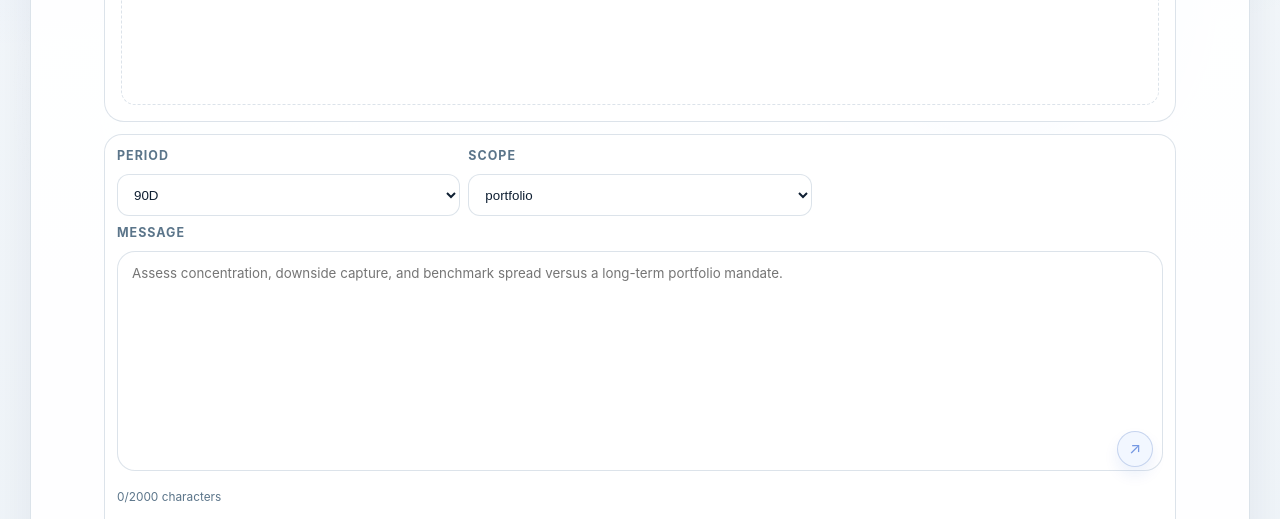
Test: PortfolioCopilotPage › renders markdown table structure in ready response text
(page scrolled)
In the text box named "Copilot user message": (640, 361) [117, 251, 1163, 471], type "Render markdown table please."
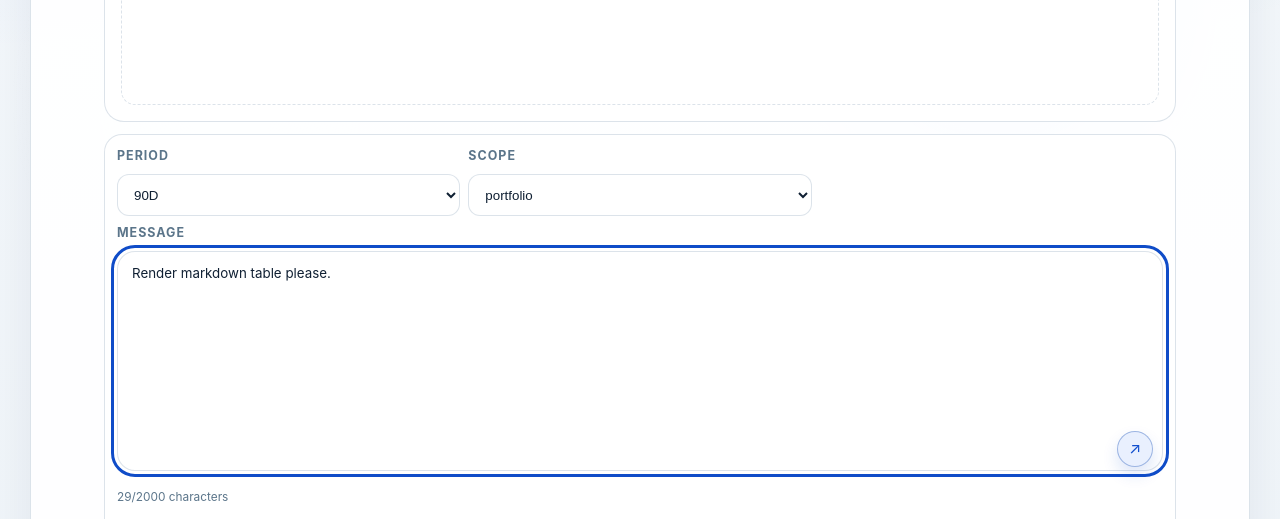
Click the button named "Submit request": click(1135, 449) [1117, 431, 1153, 467]
(page scrolled)
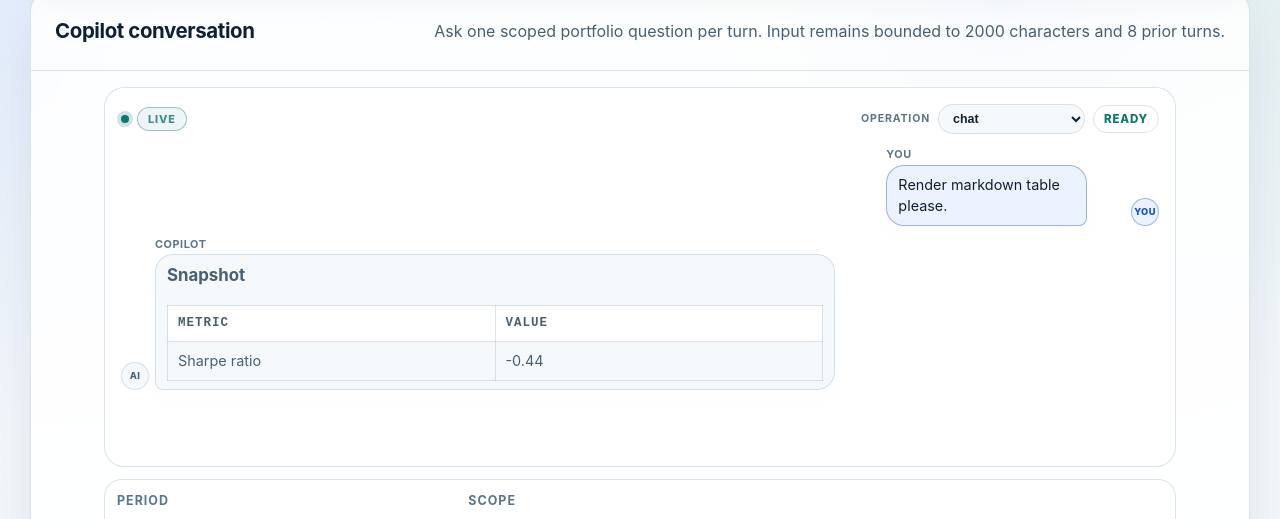
Result: the column heading "Metric" is shown at [168, 306, 495, 342]
Result: the column heading "Value" is shown at [495, 306, 822, 342]
Result: the cell "Sharpe ratio" is shown at [168, 342, 495, 380]
